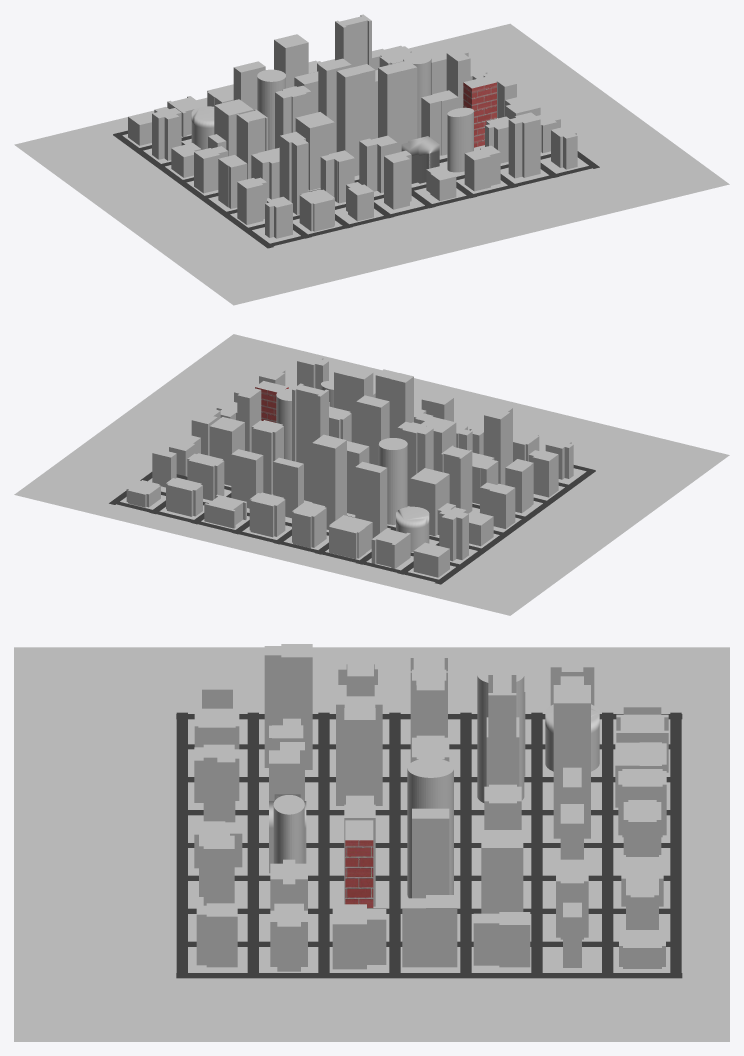
File: ucityp.fbx
3 views of the same model, one above another, from view 1: azimuth 30°, elevation 25°; view 2: azimuth 150°, elevation 25°; view 3: azimuth 270°, elevation 25° (orthographic). The views are drawn at different scales.
Parts seen in each view (by area): view 1: Plane.001, Plane.020, Plane.008, building_006, building_009.002, building_008.002, building_007.001, building_001, building_007, building_021, building_008.001, building_002 (+33 smaller); view 2: Plane.001, Plane.020, Plane.008, building_007, building_004, building_030, building_019, building_006, building_037, building_007.001, building_026, building_009.002 (+35 smaller); view 3: Plane.001, Plane.020, Plane.008, building_007.001, building_004, building_001.001, building_024, building_015, building_010, building_007, building_009.002, building_031 (+38 smaller).
Part boxes in pixels (x1=…): Plane.001: x1=14, y1=23, x2=729, y2=305; Plane.020: x1=101, y1=49, x2=610, y2=253; Plane.008: x1=113, y1=130, x2=599, y2=248; building_006: x1=336, y1=64, x2=375, y2=176; building_009.002: x1=378, y1=60, x2=417, y2=152; building_008.002: x1=508, y1=112, x2=540, y2=178; building_007.001: x1=279, y1=131, x2=308, y2=214; building_001: x1=295, y1=112, x2=334, y2=190; building_007: x1=335, y1=14, x2=371, y2=67; building_021: x1=463, y1=76, x2=496, y2=147; building_008.001: x1=421, y1=90, x2=458, y2=155; building_002: x1=447, y1=107, x2=473, y2=172; Plane.001: x1=14, y1=334, x2=729, y2=615; Plane.020: x1=98, y1=462, x2=607, y2=589; Plane.008: x1=109, y1=465, x2=595, y2=584; building_007: x1=292, y1=383, x2=328, y2=501; building_004: x1=312, y1=434, x2=346, y2=529; building_030: x1=355, y1=461, x2=387, y2=538; building_019: x1=378, y1=438, x2=407, y2=524; building_006: x1=375, y1=369, x2=413, y2=437; building_037: x1=356, y1=395, x2=389, y2=465; building_007.001: x1=484, y1=405, x2=512, y2=484; building_026: x1=410, y1=468, x2=449, y2=536; building_009.002: x1=334, y1=365, x2=373, y2=442; Plane.001: x1=14, y1=647, x2=729, y2=1041; Plane.020: x1=164, y1=707, x2=693, y2=983; Plane.008: x1=176, y1=712, x2=682, y2=978; building_007.001: x1=264, y1=644, x2=312, y2=769; building_004: x1=553, y1=685, x2=590, y2=838; building_001.001: x1=402, y1=895, x2=457, y2=967; building_024: x1=481, y1=830, x2=523, y2=913; building_015: x1=332, y1=904, x2=386, y2=969; building_010: x1=412, y1=808, x2=449, y2=898; building_007: x1=488, y1=672, x2=516, y2=786; building_009.002: x1=344, y1=696, x2=375, y2=804; building_031: x1=407, y1=758, x2=453, y2=898.
Size of the model in its own units: 30000 by 6373 by 23000.
